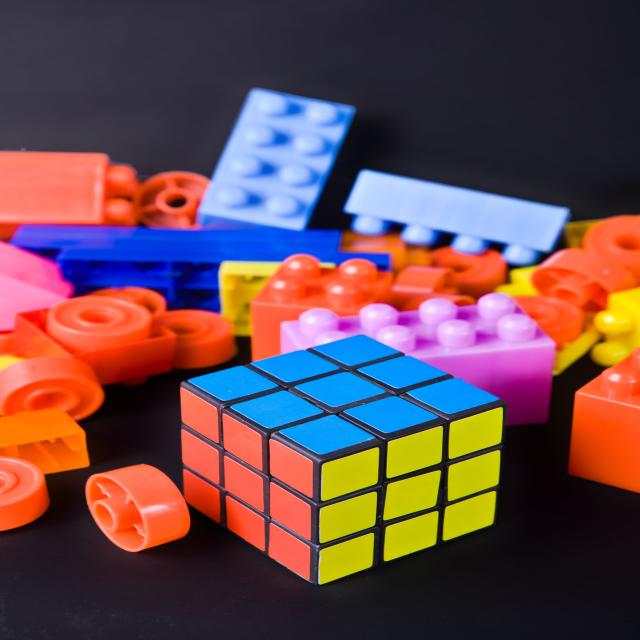Cubo-Resuelto: (180, 334, 507, 584)
